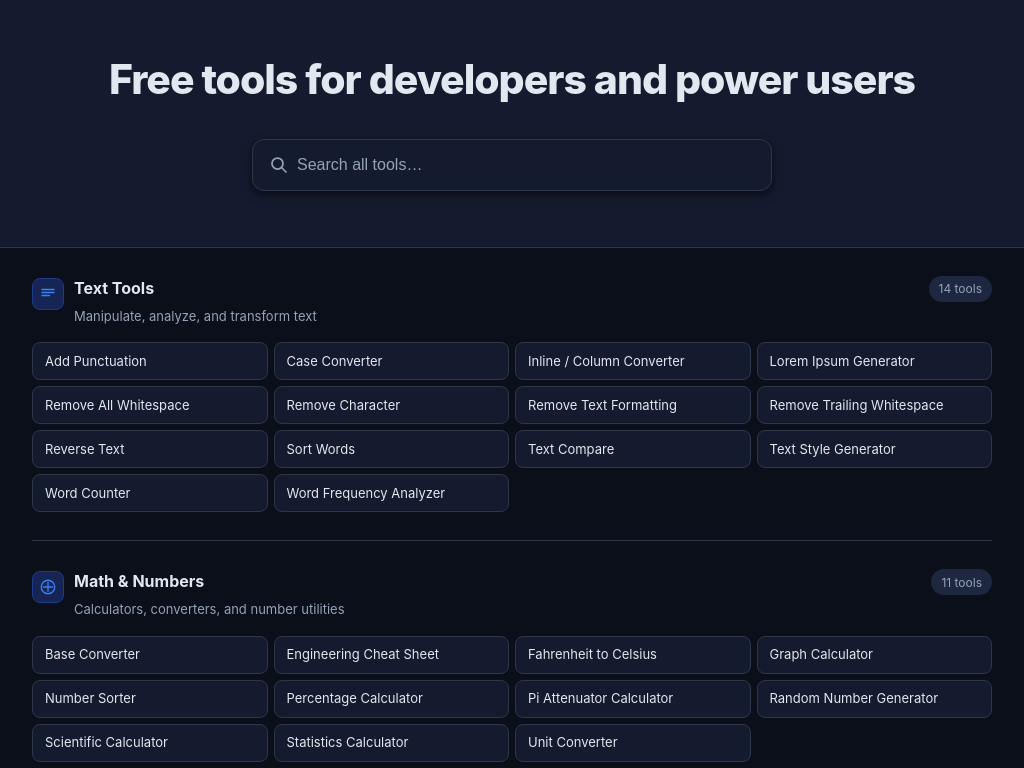
Test: Home page › search shows empty state for no match
The image size is (1024, 768).
Type "xyzzy_no_match" into the search field labelled "Search all tools".
click(526, 165); type("xyzzy_no_match")  # box [297,156,755,174]
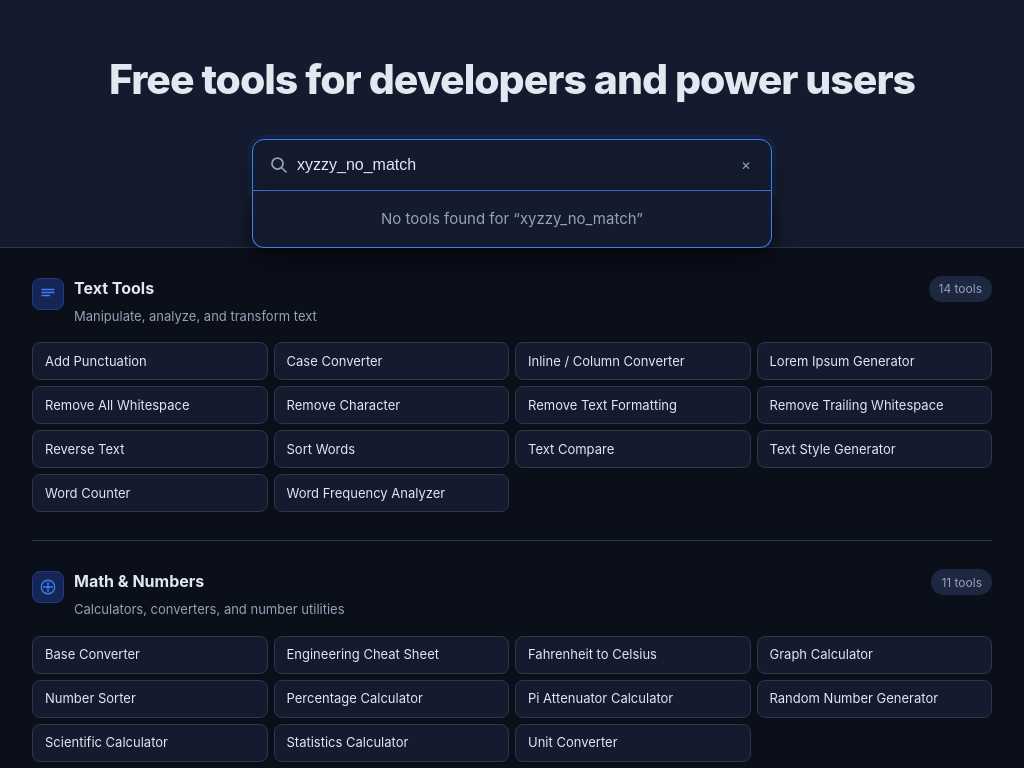
Now the text "No tools found for “xyzzy_no_match”" is shown, box [252,191,772,248]
